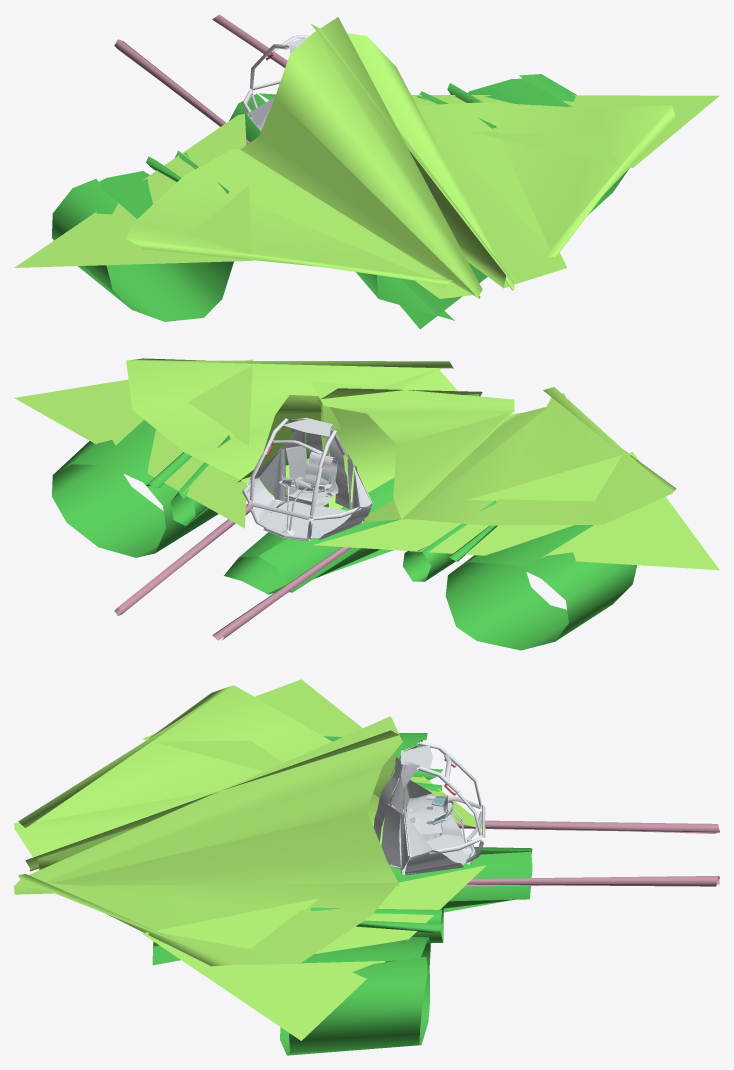
The model's file is spaceship.glb.
3 views of the same model, one above another, from view 1: azimuth 30°, elevation 25°; view 2: azimuth 150°, elevation 25°; view 3: azimuth 270°, elevation 25° (orthographic). The views are drawn at different scales.
Visible parts, largest first — view 1: s.0287, s.0288_Mirrored, s.0287_Mirrored, s.0278_Mirrored, s.0286_Mirrored, s.0288, s.0278, s.0286, s.0290_Mirrored, s.0290, s.0173_Mirrored, s.0173; view 2: s.0287_Mirrored, s.0287, s.0278_Mirrored, s.0286_Mirrored, s.0286, s.0278, s.0288_Mirrored, s.0290_Mirrored, s.0288, s.0290, floor, s.0285_Mirrored (+10 smaller); view 3: s.0288, s.0287_Mirrored, s.0287, s.0278, s.0286, s.0278_Mirrored, s.0290, s.0173, s.0173_Mirrored, s.0288_Mirrored, s.0221_Mirrored, s.0216 (+7 smaller).
Part boxes in pixels (<box>): s.0287: <box>406,102,676,288</box>; s.0288_Mirrored: <box>240,17,482,298</box>; s.0287_Mirrored: <box>126,148,472,298</box>; s.0278_Mirrored: <box>14,113,252,267</box>; s.0286_Mirrored: <box>52,171,233,321</box>; s.0288: <box>311,24,514,290</box>; s.0278: <box>411,95,719,168</box>; s.0286: <box>468,74,629,214</box>; s.0290_Mirrored: <box>229,93,454,320</box>; s.0290: <box>258,93,487,329</box>; s.0173_Mirrored: <box>114,39,250,144</box>; s.0173: <box>212,14,287,67</box>; s.0287_Mirrored: <box>321,387,676,525</box>; s.0287: <box>126,358,478,507</box>; s.0278_Mirrored: <box>313,452,719,570</box>; s.0286_Mirrored: <box>445,525,636,650</box>; s.0286: <box>52,419,218,557</box>; s.0278: <box>14,359,252,528</box>; s.0288_Mirrored: <box>311,381,514,522</box>; s.0290_Mirrored: <box>258,477,400,593</box>; s.0288: <box>237,388,482,482</box>; s.0290: <box>224,532,393,594</box>; floor: <box>262,501,351,537</box>; s.0285_Mirrored: <box>402,500,496,581</box>; s.0288: <box>28,716,402,886</box>; s.0287_Mirrored: <box>14,685,395,870</box>; s.0287: <box>14,794,398,966</box>; s.0278: <box>142,865,485,1040</box>; s.0286: <box>280,937,430,1055</box>; s.0278_Mirrored: <box>142,679,486,830</box>; s.0290: <box>153,852,532,946</box>; s.0173: <box>465,876,719,886</box>; s.0173_Mirrored: <box>455,820,719,833</box>; s.0288_Mirrored: <box>25,730,402,871</box>; s.0221_Mirrored: <box>381,804,401,869</box>; s.0216: <box>406,793,463,838</box>.
Bounding box in the file's own units: 12.9 × 3.88 × 10.63.
